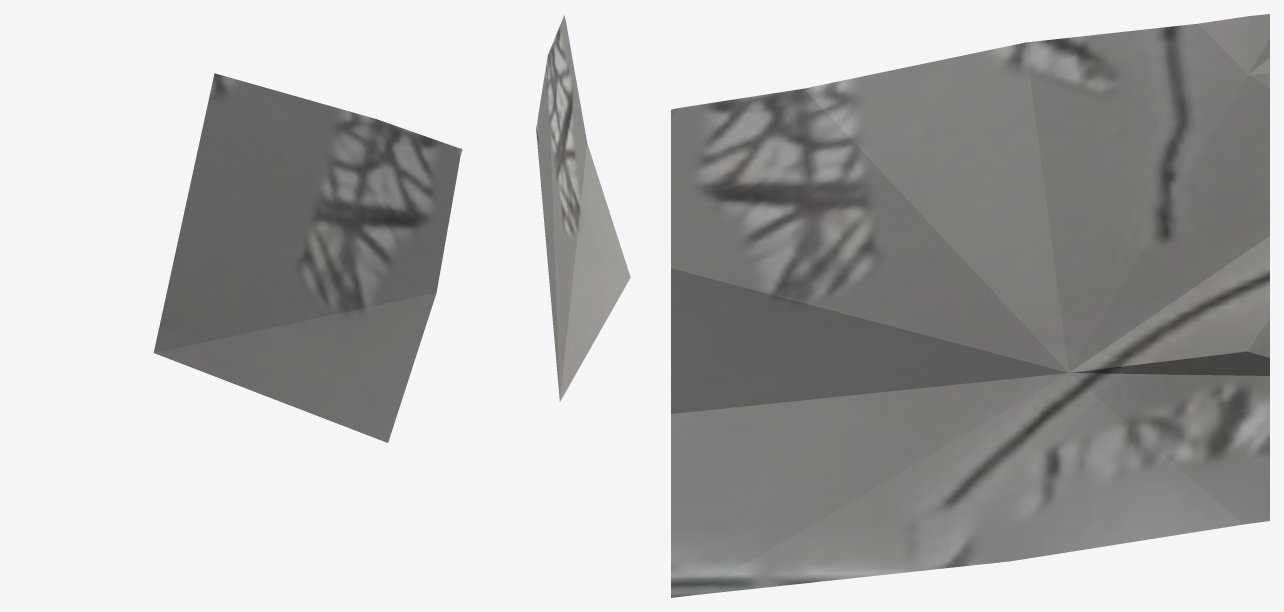
3 views of the same model, side by side, from view 1: azimuth 30°, elevation 25°; view 2: azimuth 150°, elevation 25°; view 3: azimuth 270°, elevation 25° (orthographic). The views are drawn at different scales.
Bounding box in the file's own units: 0.4351 × 0.8373 × 0.8373.
Materials: 3 (3 with a texture image).
